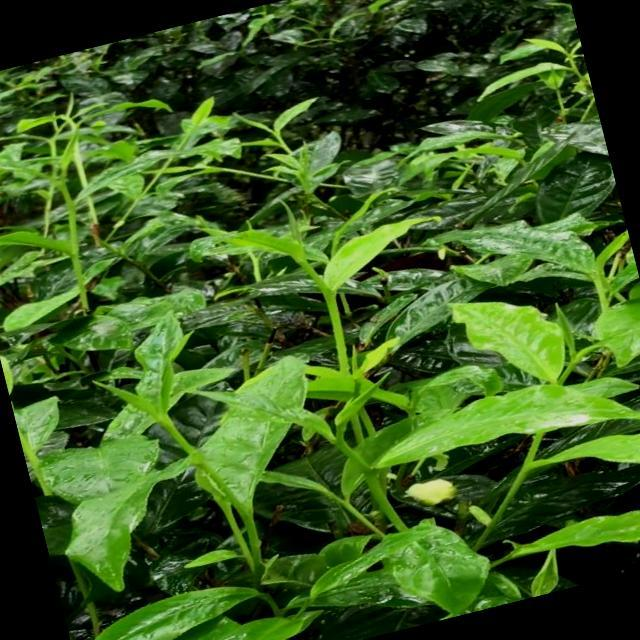Stem: (325, 294, 342, 332), (335, 439, 359, 460), (161, 419, 180, 440), (594, 276, 606, 300), (282, 143, 292, 153)
